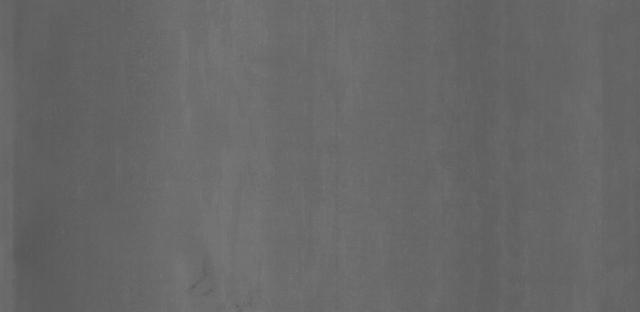water_spot: (184, 259, 253, 300)
